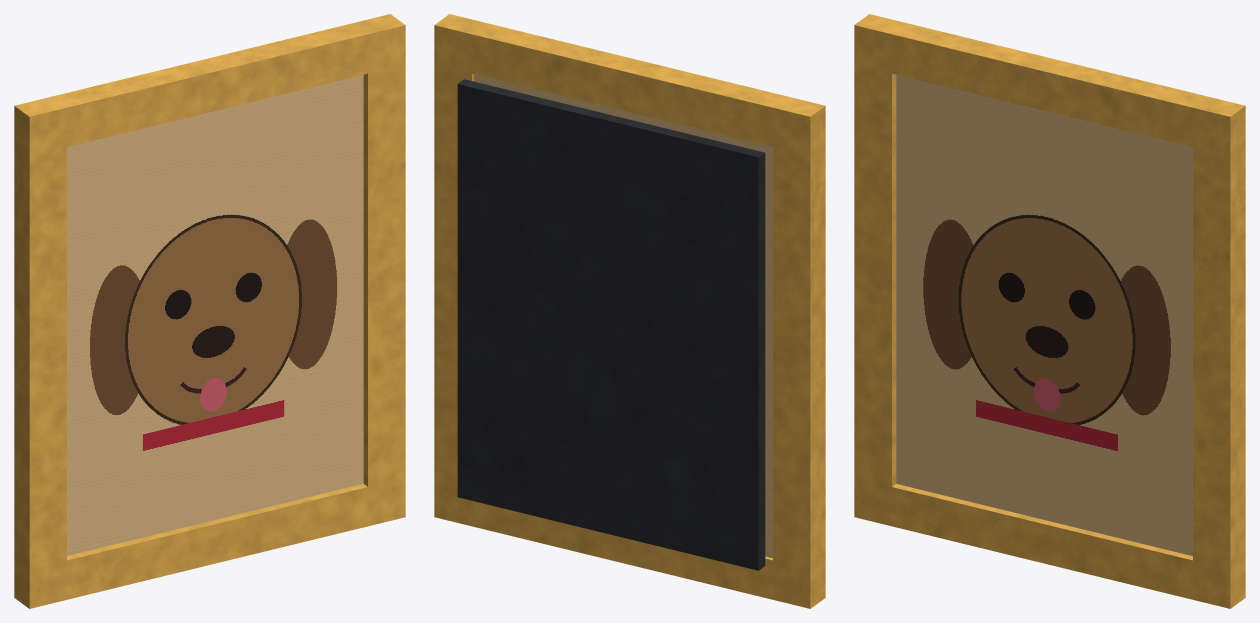
File: dun_pic_fang.glb
3 renders of one model, left to right at view 1: azimuth 30°, elevation 25°; view 2: azimuth 150°, elevation 25°; view 3: azimuth 330°, elevation 25°, orthographic.
Visible parts, largest first — view 1: dun_pic_fang_pic_fang_0, dun_pic_fang_gold_0; view 2: dun_pic_fang_slate_0, dun_pic_fang_gold_0, dun_pic_fang_pic_fang_0; view 3: dun_pic_fang_pic_fang_0, dun_pic_fang_gold_0.
Part boxes in pixels (box(x1,y1,x2,y2)): dun_pic_fang_pic_fang_0: box(67, 75, 363, 555); dun_pic_fang_gold_0: box(14, 14, 405, 608); dun_pic_fang_slate_0: box(457, 79, 765, 570); dun_pic_fang_gold_0: box(434, 14, 825, 608); dun_pic_fang_pic_fang_0: box(474, 74, 772, 558); dun_pic_fang_pic_fang_0: box(896, 75, 1192, 555); dun_pic_fang_gold_0: box(854, 14, 1245, 608).
Size of the model in its own units: 1 by 1.25 by 0.135.
Materials: 3 (3 with a texture image).
